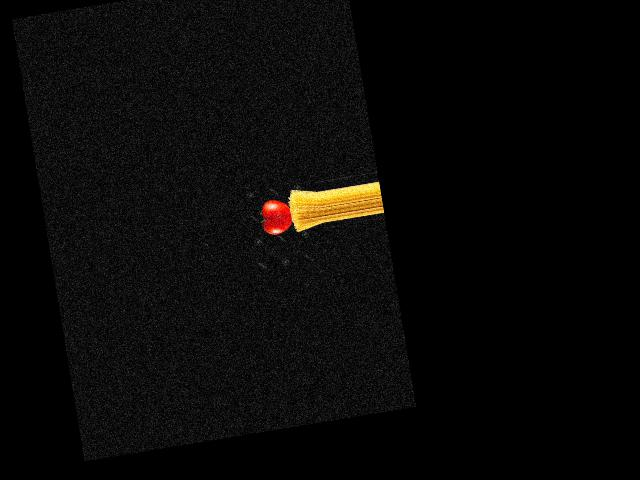tomato: (259, 197, 294, 235)
